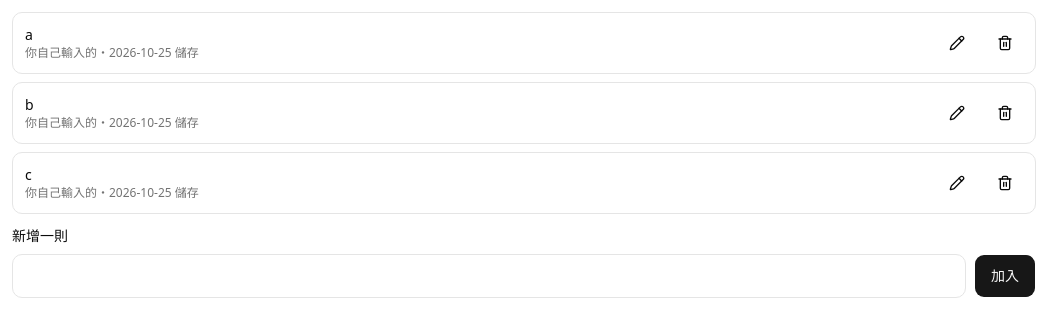
Test: MemoryEditor › deletes a note
Click the button named "刪除：b" at (1005, 113), box [983,91,1027,135]
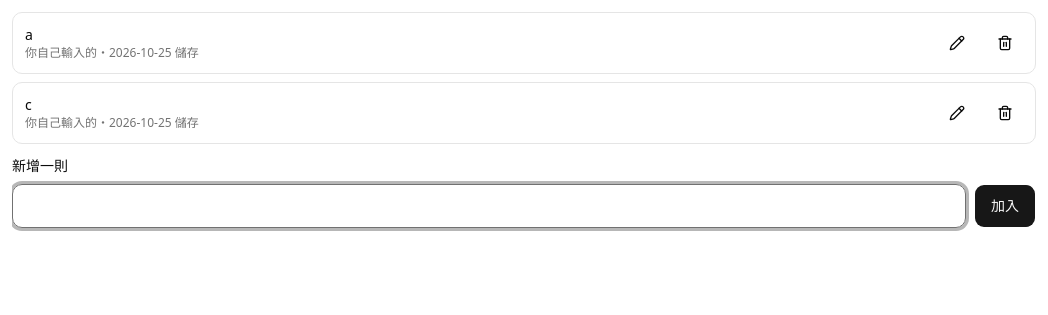
Click the button named "刪除：a" at (1005, 43), box [983,21,1027,65]
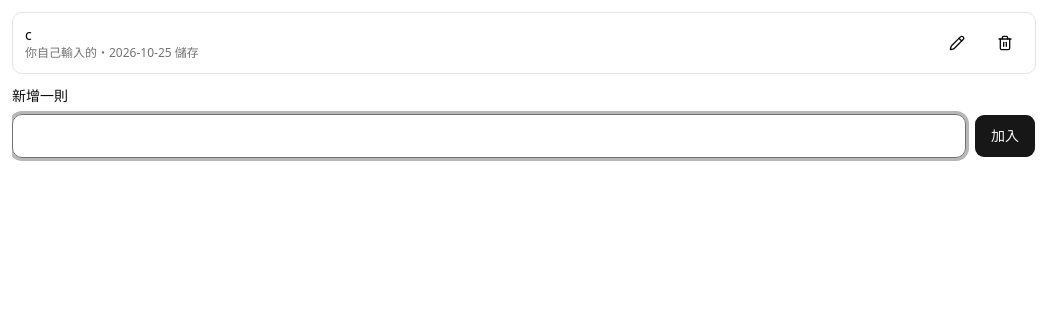
Click the button named "刪除：c" at (1005, 43), box [983,21,1027,65]
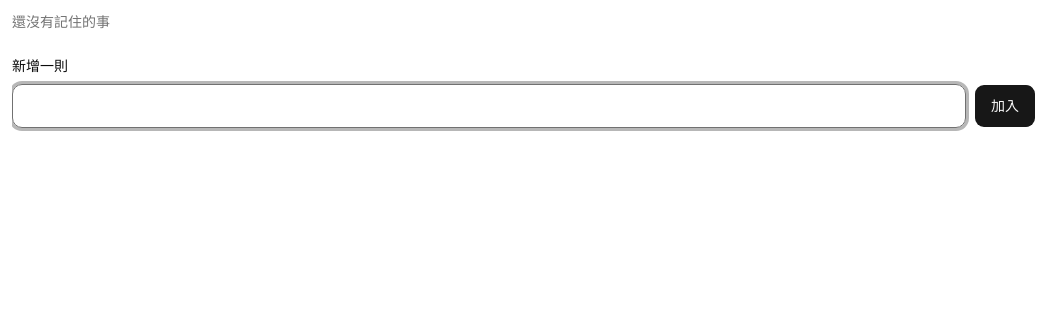
Result: the text "還沒有記住的事" is shown at [12,12,110,31]
